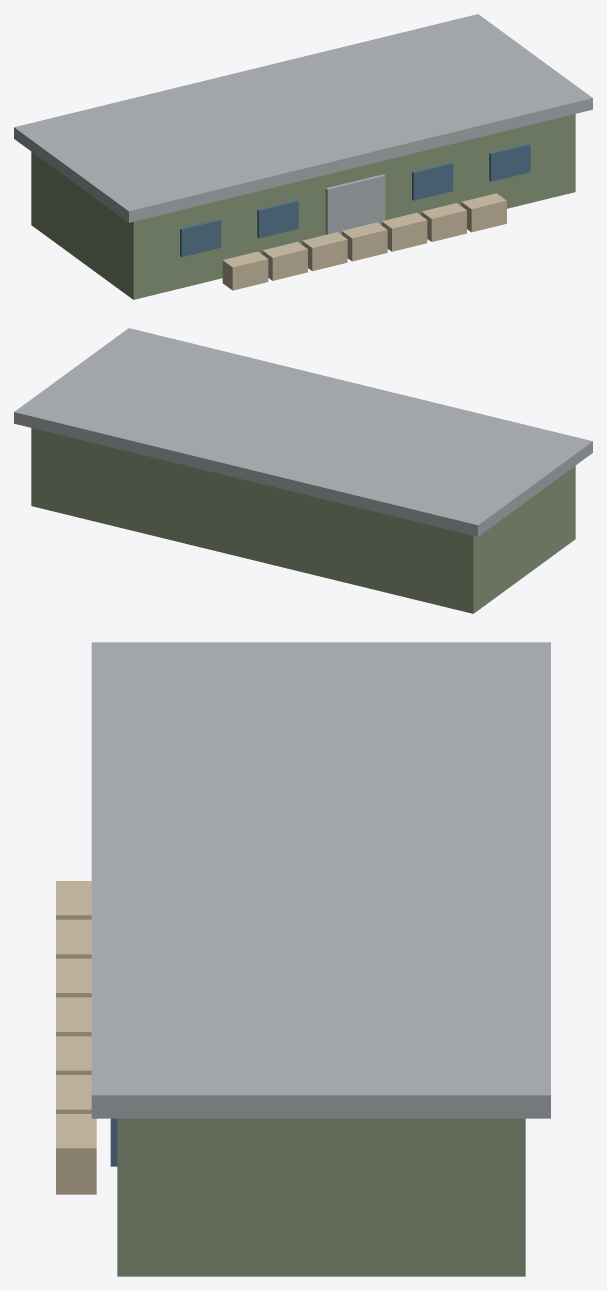
The model's file is building_military_barracks.glb.
3 renders of one model, top to bottom at view 1: azimuth 30°, elevation 25°; view 2: azimuth 150°, elevation 25°; view 3: azimuth 270°, elevation 25°, orthographic. The views are drawn at different scales.
Parts seen in each view (by area): view 1: barr_roof, barr_body, barr_door, barr_sand_-3, barr_sand_1, barr_sand_0, barr_sand_3, barr_sand_-2, barr_sand_2, barr_sand_-1, barr_win_3.5, barr_win_7 (+2 smaller); view 2: barr_roof, barr_body; view 3: barr_roof, barr_body, barr_sand_3, barr_sand_0, barr_sand_-1, barr_sand_-2, barr_sand_1, barr_sand_2, barr_sand_-3.
Boxes of the visible parts, x1,y1,x2,y2 form: barr_roof: (14, 14, 592, 222); barr_body: (31, 114, 575, 299); barr_door: (325, 174, 385, 234); barr_sand_-3: (222, 251, 268, 290); barr_sand_1: (381, 212, 427, 251); barr_sand_0: (342, 222, 387, 261); barr_sand_3: (461, 193, 506, 232); barr_sand_-2: (262, 241, 307, 280); barr_sand_2: (421, 203, 466, 241); barr_sand_-1: (302, 232, 347, 270); barr_win_3.5: (412, 162, 453, 200); barr_win_7: (489, 143, 530, 181); barr_roof: (14, 328, 592, 536); barr_body: (31, 428, 575, 613); barr_roof: (91, 642, 550, 1118); barr_body: (117, 1118, 525, 1276); barr_sand_3: (56, 1114, 96, 1194); barr_sand_0: (56, 997, 91, 1036); barr_sand_-1: (56, 958, 91, 997); barr_sand_-2: (56, 919, 91, 958); barr_sand_1: (56, 1036, 91, 1074); barr_sand_2: (56, 1075, 91, 1113); barr_sand_-3: (56, 881, 91, 919).
Size of the model in its own units: 21 by 4.15 by 9.7.
